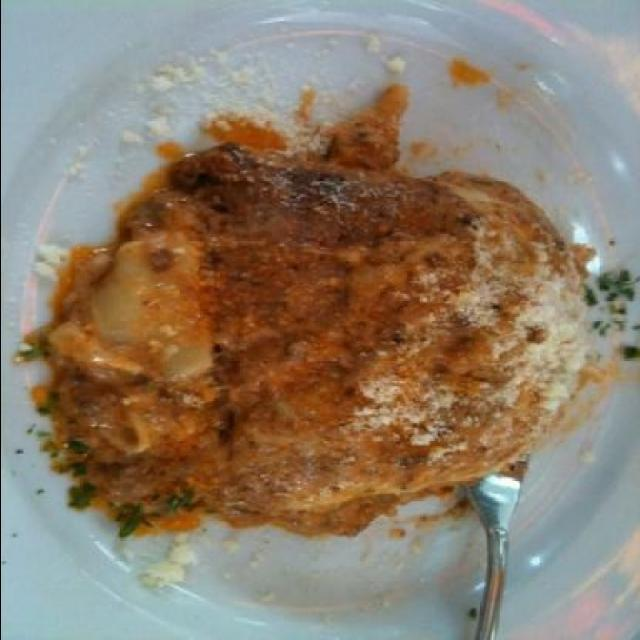Lasagna: (79, 116, 596, 534)
